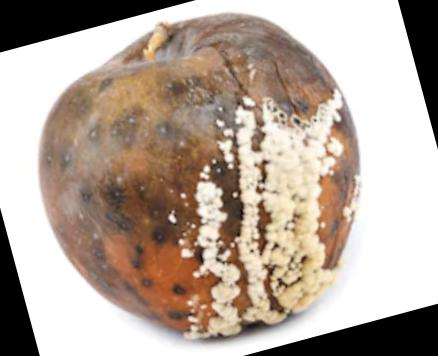Apple: (43, 15, 365, 329)
